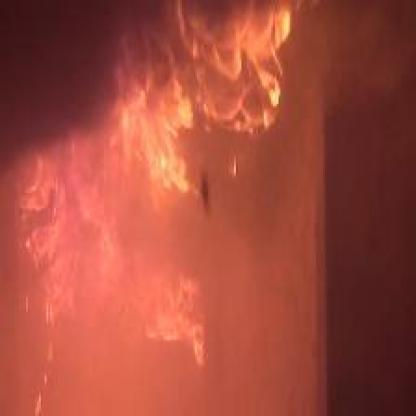fire: (12, 10, 298, 358)
